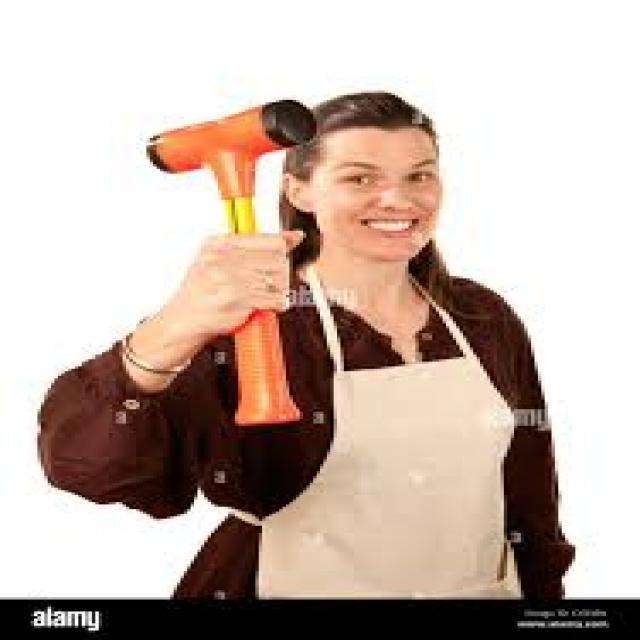hammer: (140, 83, 323, 457)
